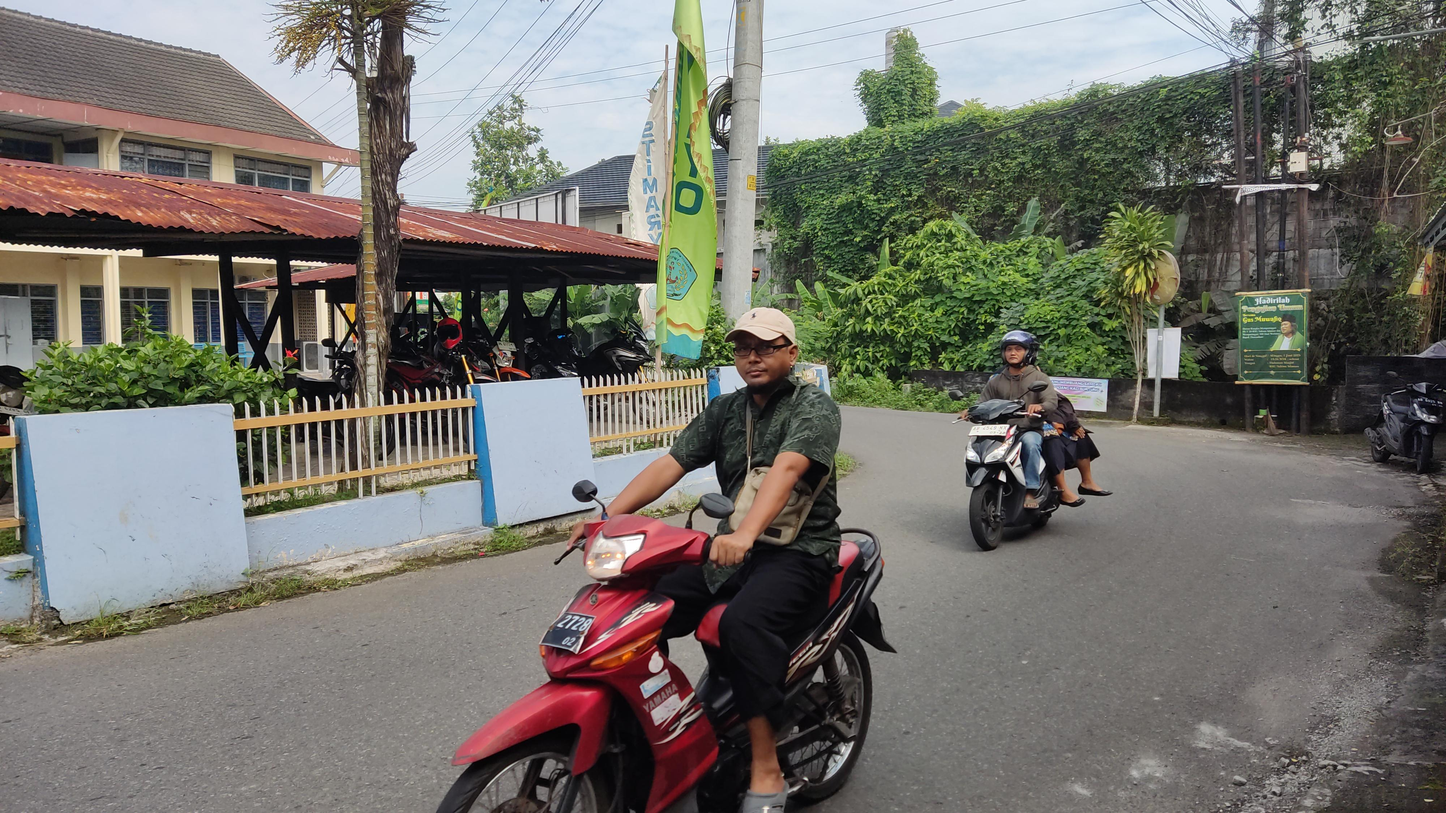helm: (999, 331, 1042, 370)
nohelm: (722, 307, 802, 392)
riding: (432, 307, 901, 813), (948, 328, 1115, 552)
